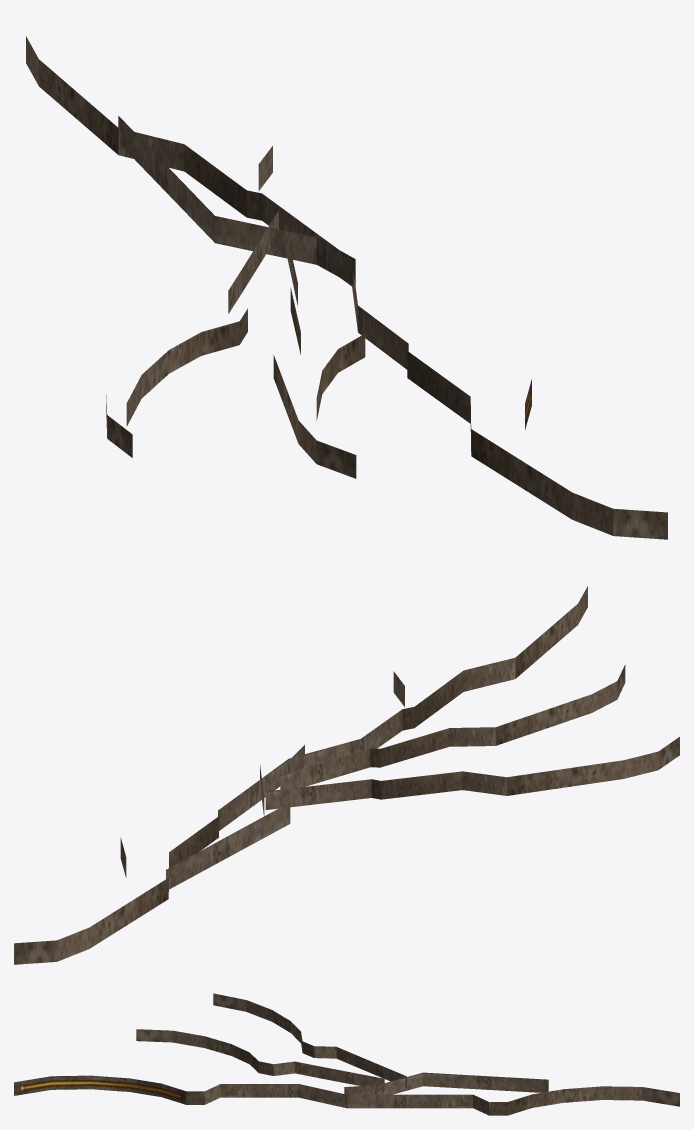
3 renders of one model, top to bottom at view 1: azimuth 30°, elevation 25°; view 2: azimuth 150°, elevation 25°; view 3: azimuth 270°, elevation 25°, orthographic. The views are drawn at different scales.
Visible parts, largest first — view 1: model_Object27; view 2: model_Object27; view 3: model_Object27.
Part boxes in pixels (x1=…): model_Object27: x1=26, y1=36, x2=667, y2=539; model_Object27: x1=14, y1=586, x2=679, y2=964; model_Object27: x1=14, y1=993, x2=679, y2=1115.
Size of the model in its own units: 3.83 by 0.3633 by 10.61.
Materials: 2 (2 with a texture image).
